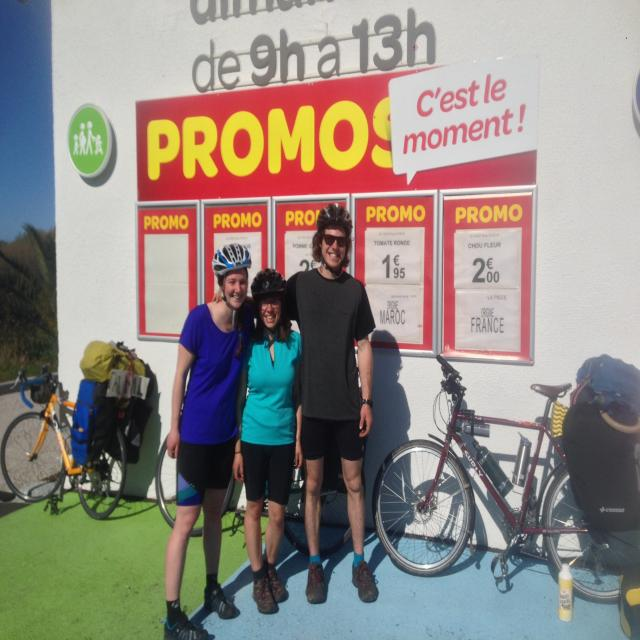body: (160, 239, 258, 640), (285, 201, 379, 606), (227, 264, 306, 618)
